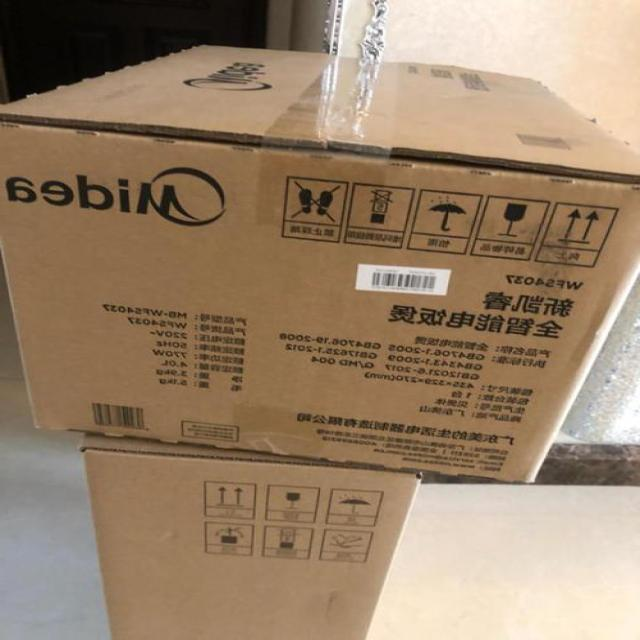cardboard: (0, 44, 640, 474), (80, 439, 419, 640)
